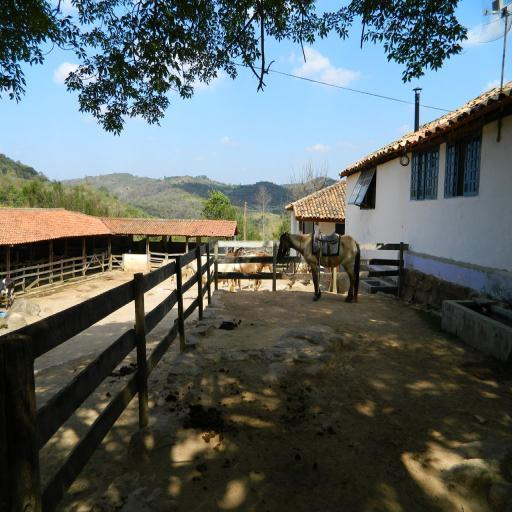horse: (276, 230, 362, 303), (233, 250, 275, 292), (220, 246, 249, 288)
